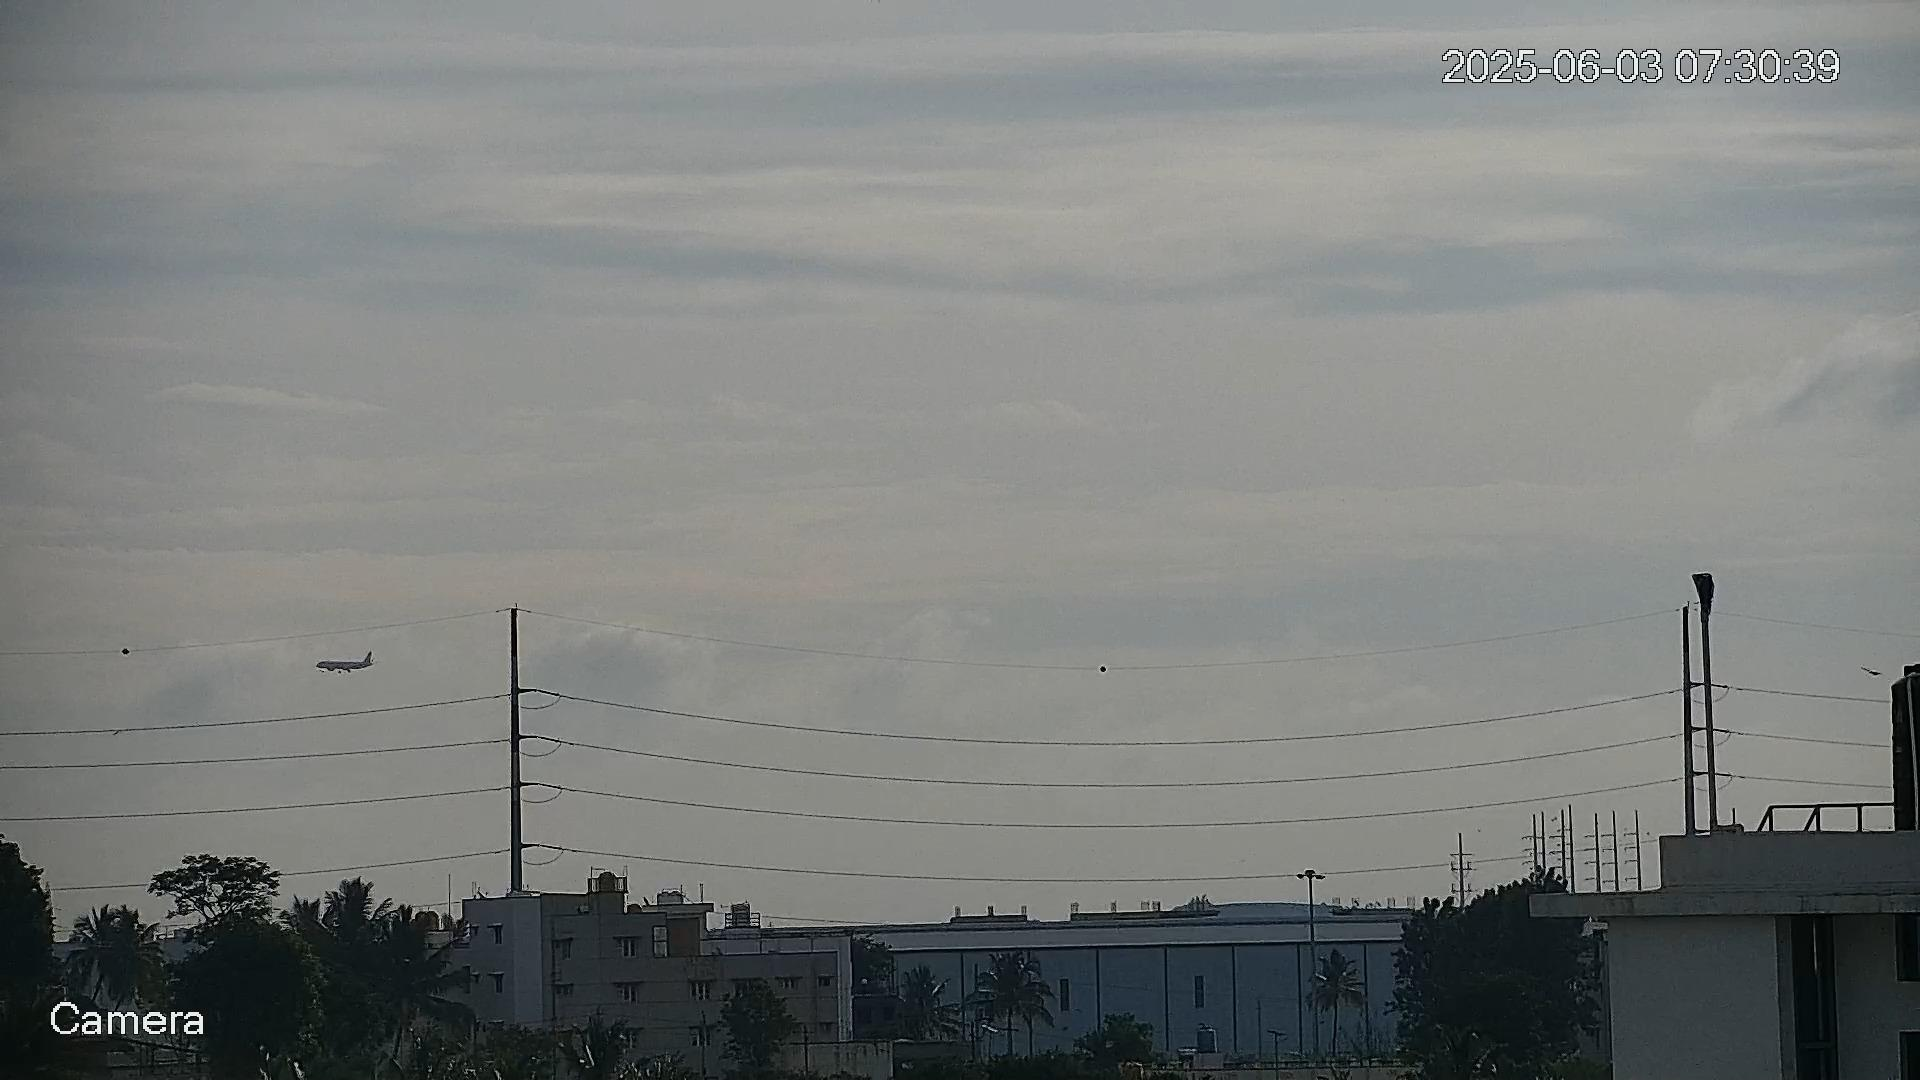Aircraft: (315, 650, 377, 674)
